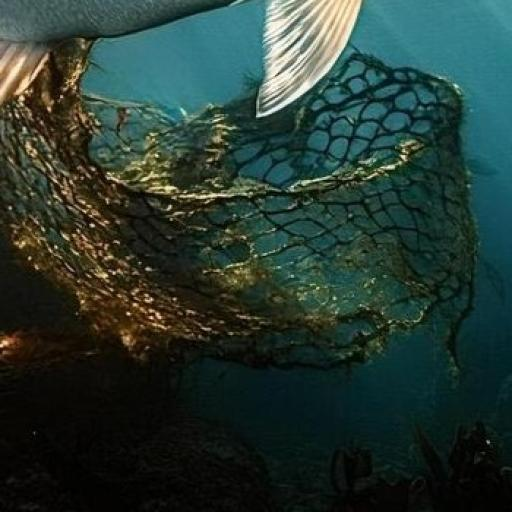net: (5, 54, 478, 371)
